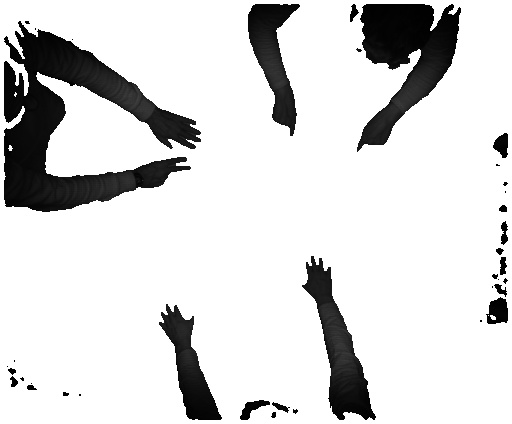hand: (152, 101, 204, 153), (152, 304, 199, 348), (135, 157, 191, 191), (296, 256, 335, 302), (352, 115, 395, 151), (272, 98, 303, 135)
